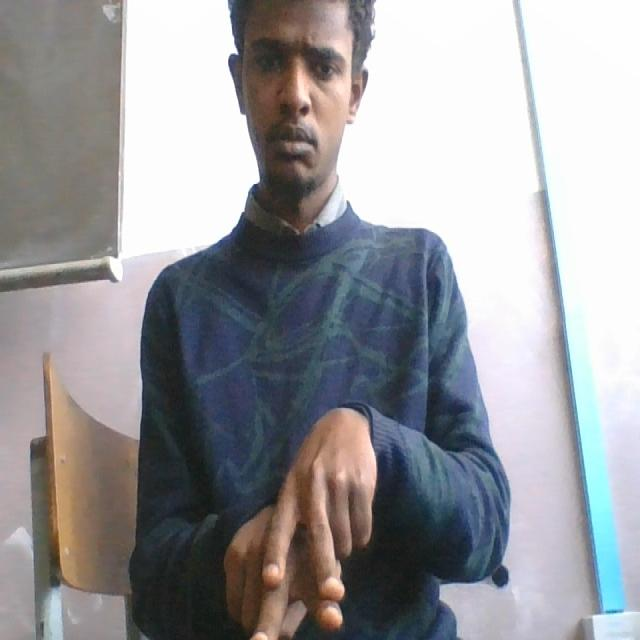babur: (223, 400, 383, 640)
